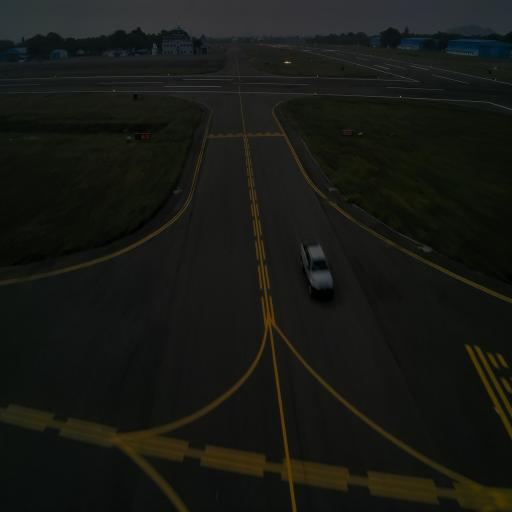on: (423, 241, 426, 250), (328, 183, 332, 189), (177, 185, 180, 191)
